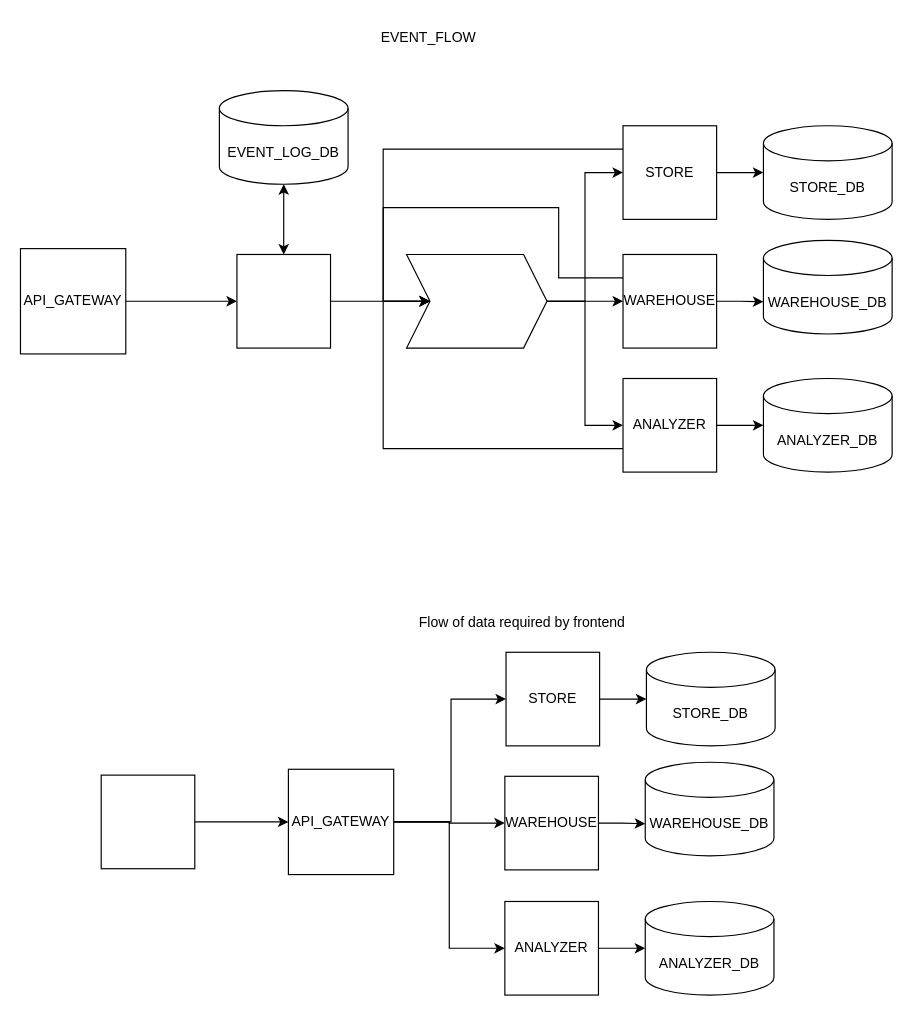
The diagram is 913 pixels wide and 1016 high, and some of its shapes have lost their labels. The centre of each missing label's shape, as x and y in pixels:
AMQP: point (476, 300)
EVENT_LOG: point (283, 300)
FRONTEND: point (147, 821)
